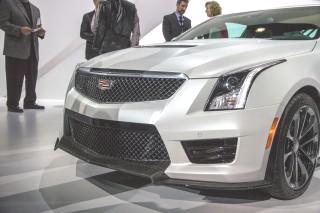cadillac: (94, 75, 121, 92)
